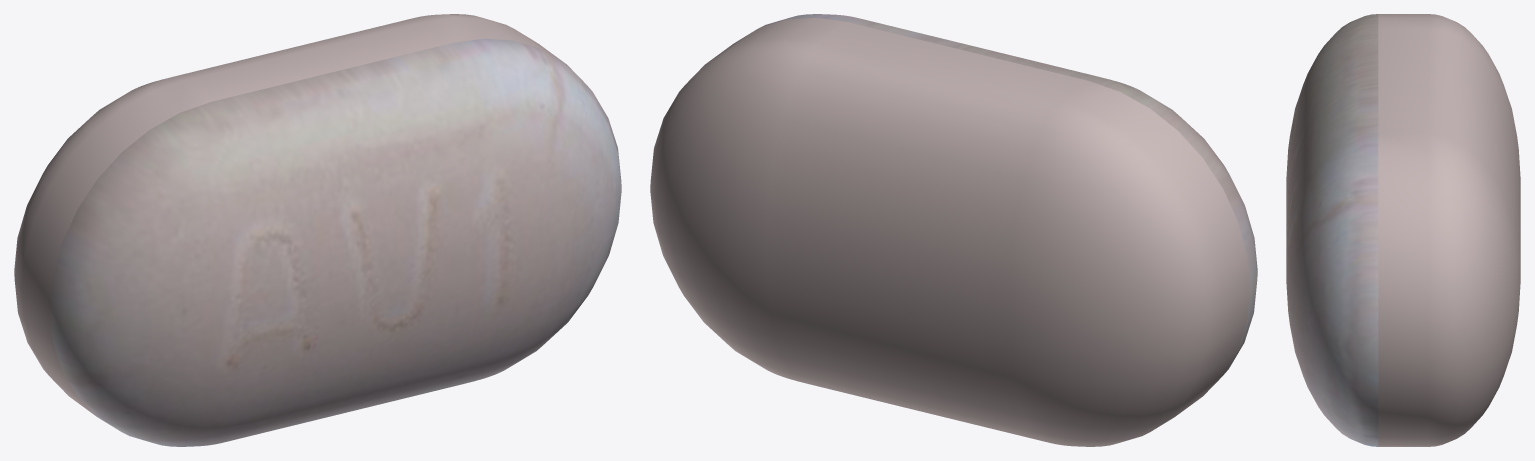
Rendered from 20160826GOPHDRGPT28683.fbx.
3 views of the same model, side by side, from view 1: azimuth 30°, elevation 25°; view 2: azimuth 150°, elevation 25°; view 3: azimuth 270°, elevation 25° (orthographic). The views are drawn at different scales.
Parts seen in each view (by area): view 1: 球體.009; view 2: 球體.009; view 3: 球體.009.
Part boxes in pixels (<box>): 球體.009: <box>14,14,621,446</box>; 球體.009: <box>650,14,1257,446</box>; 球體.009: <box>1286,14,1520,446</box>.
Size of the model in its own units: 130 by 74.52 by 53.04.
Materials: 1 (1 with a texture image).
